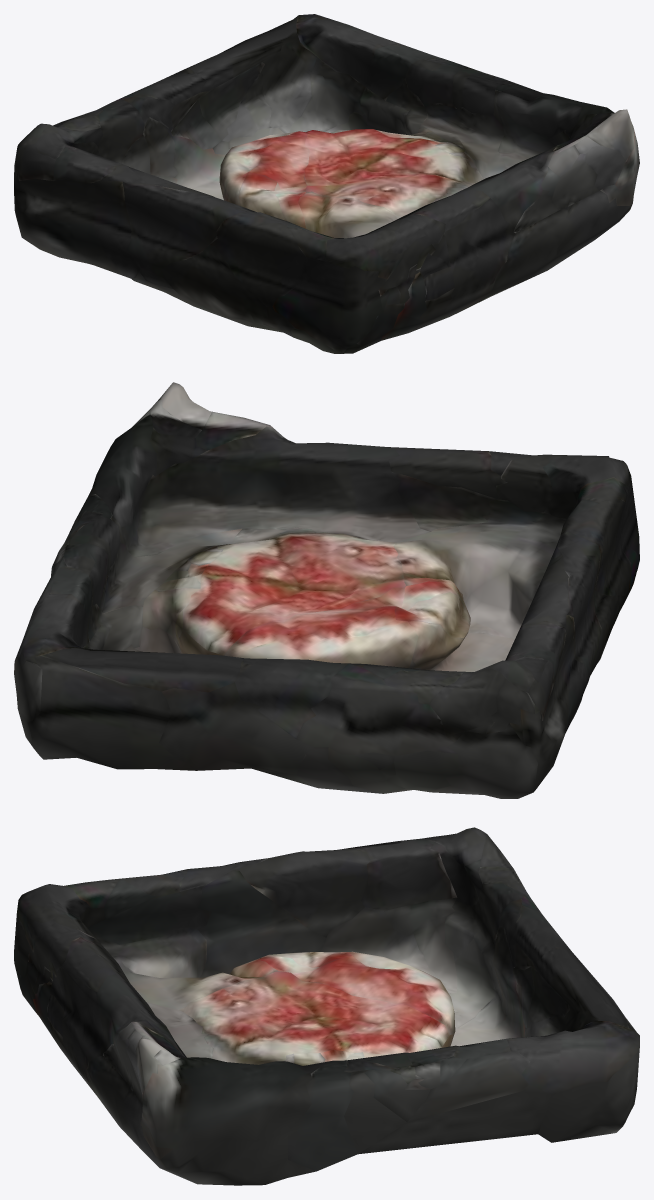
The model's file is hall.glb.
3 renders of one model, top to bottom at view 1: azimuth 30°, elevation 25°; view 2: azimuth 150°, elevation 25°; view 3: azimuth 270°, elevation 25°, orthographic. The views are drawn at different scales.
Size of the model in its own units: 0.739 by 0.215 by 0.7425.
1 material, 1 textured.
